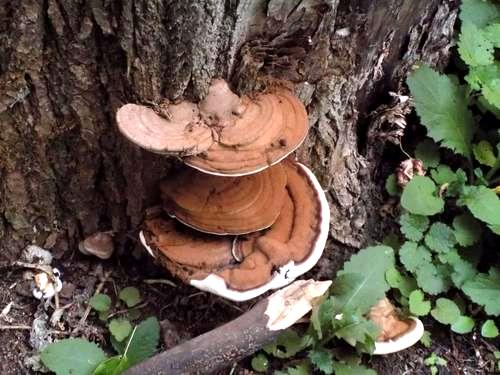Ganoderma - Fruit Body: (137, 178, 332, 305), (115, 77, 313, 178), (346, 292, 428, 356)
